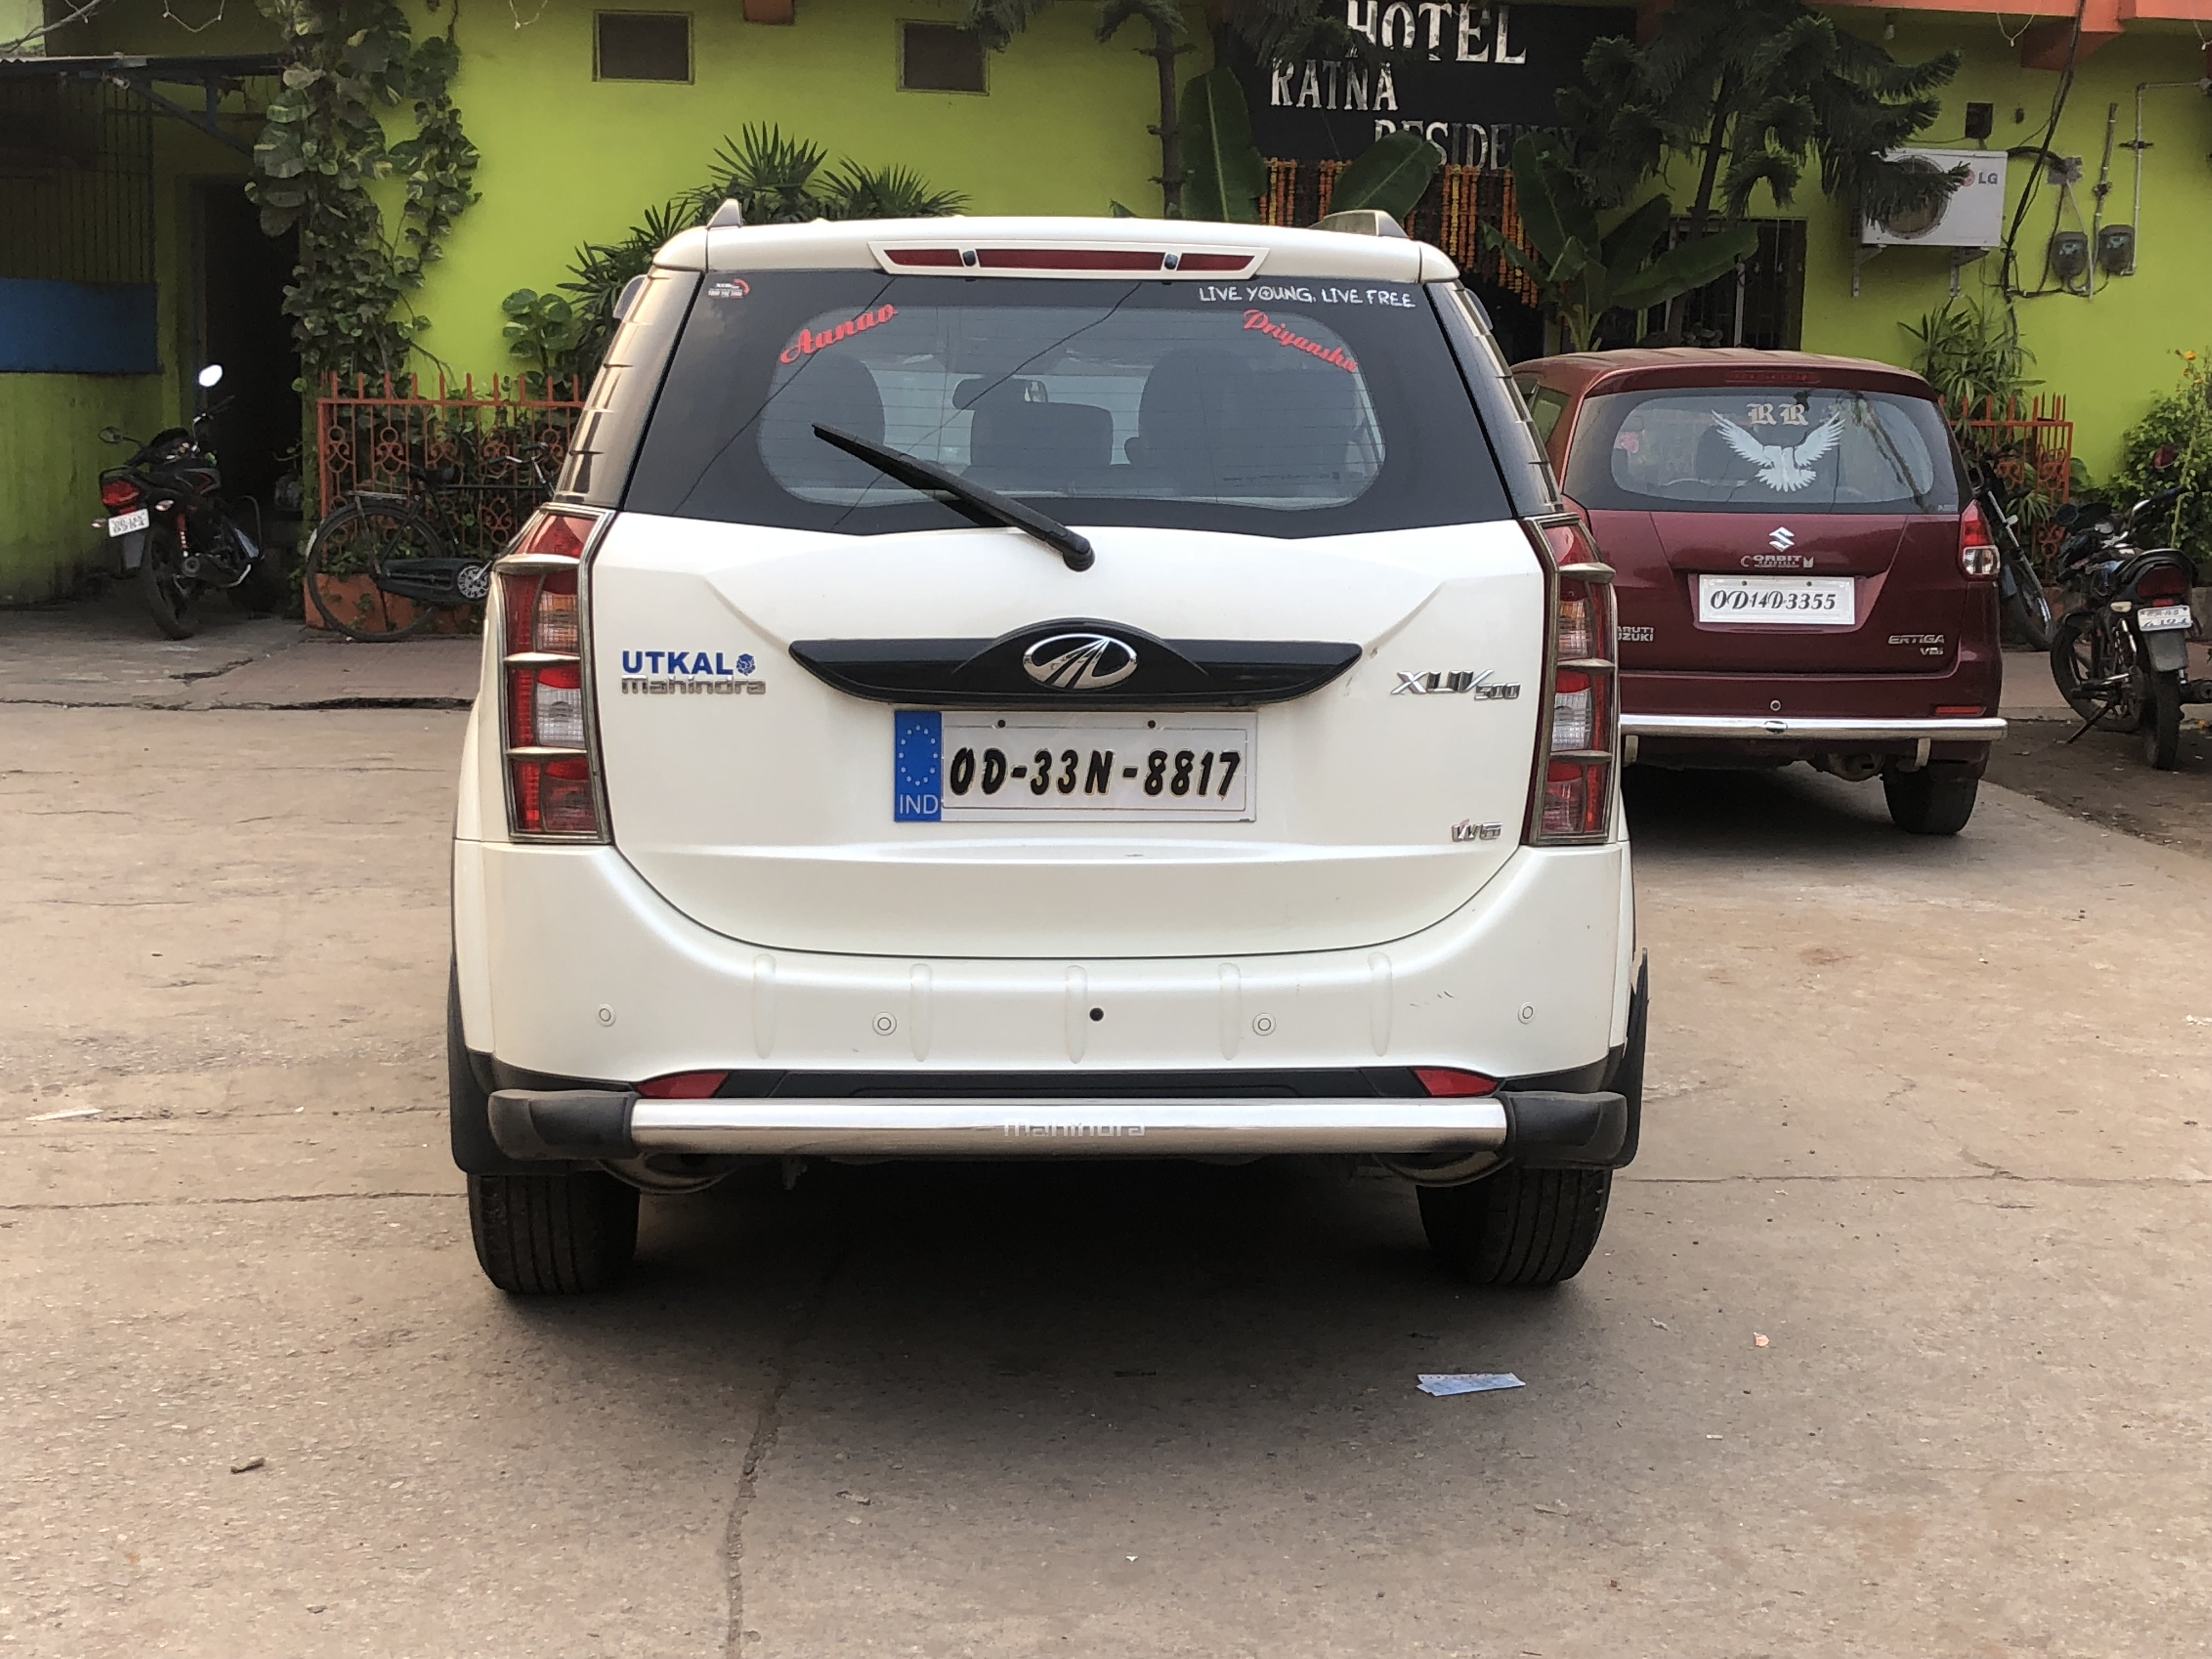licenseplate: (883, 709, 1267, 830)
